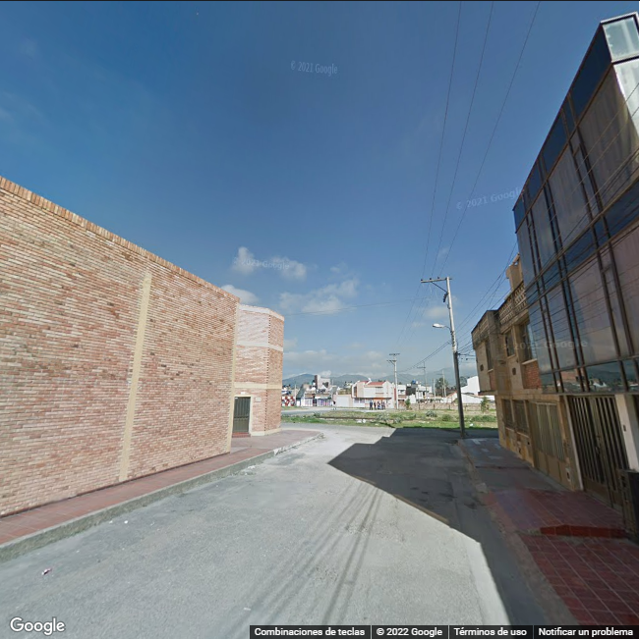D00: (388, 485, 408, 541), (360, 559, 372, 619)
D20: (252, 575, 340, 625)
